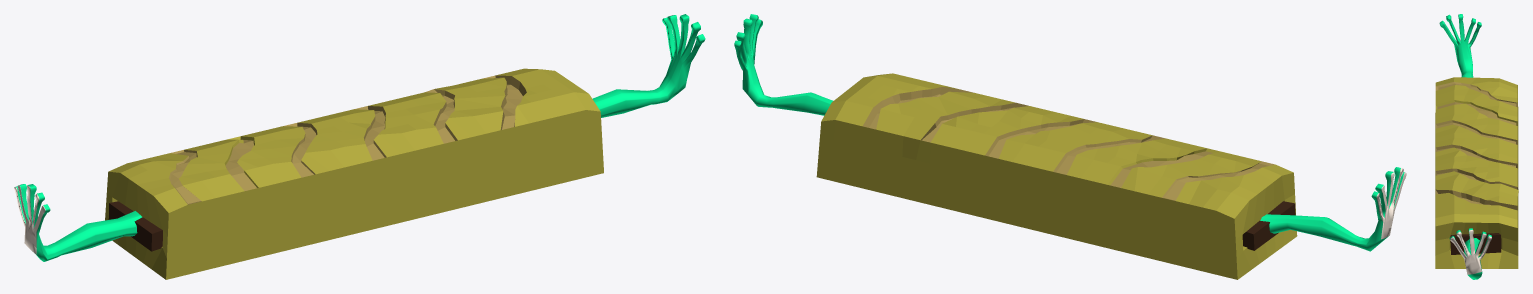
File: sauguseroll.fbx
3 renders of one model, left to right at view 1: azimuth 30°, elevation 25°; view 2: azimuth 150°, elevation 25°; view 3: azimuth 270°, elevation 25°, orthographic. The views are drawn at different scales.
Parts seen in each view (by area): view 1: Cube; view 2: Cube; view 3: Cube.
Part boxes in pixels (left/top/right/bottom): Cube: left=14, top=14, right=705, bottom=279; Cube: left=734, top=14, right=1406, bottom=279; Cube: left=1435, top=14, right=1518, bottom=279.
Bounding box in the file's own units: 1532 × 244 × 246.
